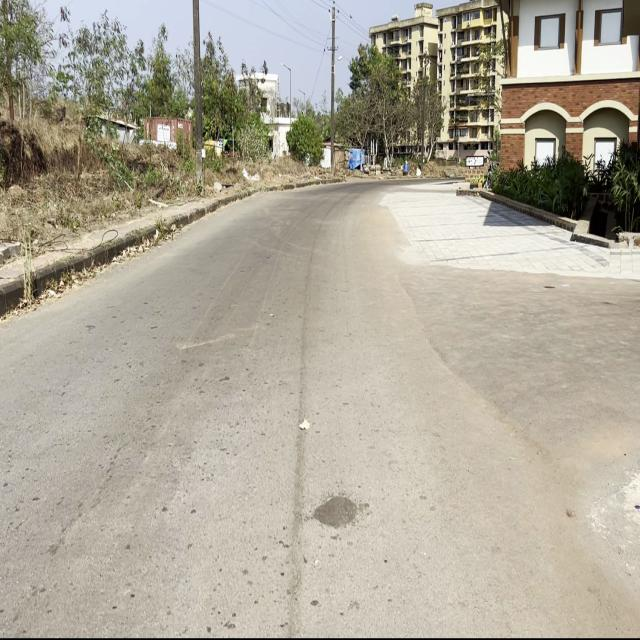Road: (1, 183, 639, 639)
